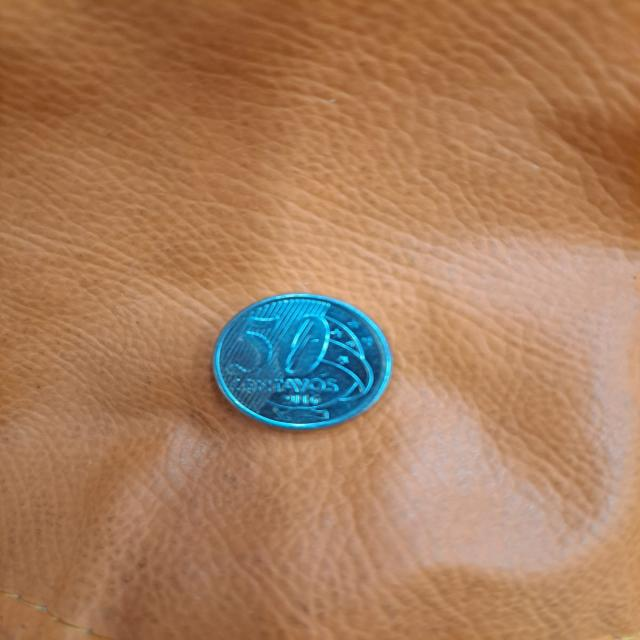50 cents: (213, 288, 393, 436)
